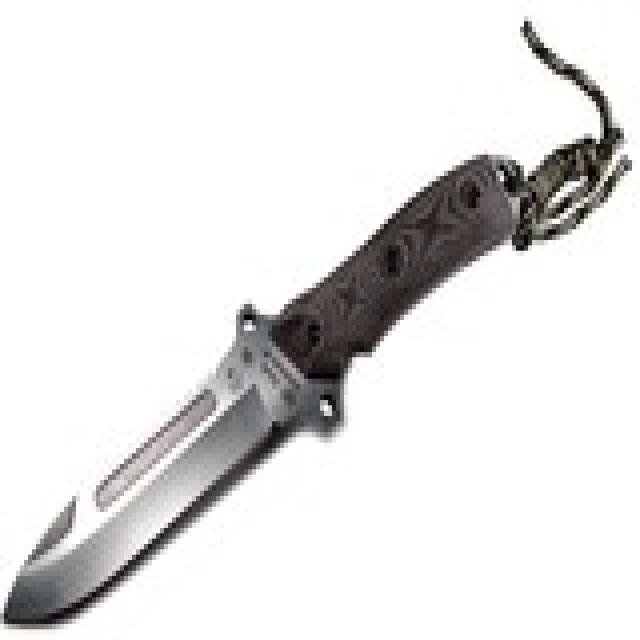Knife: (3, 134, 535, 640)
